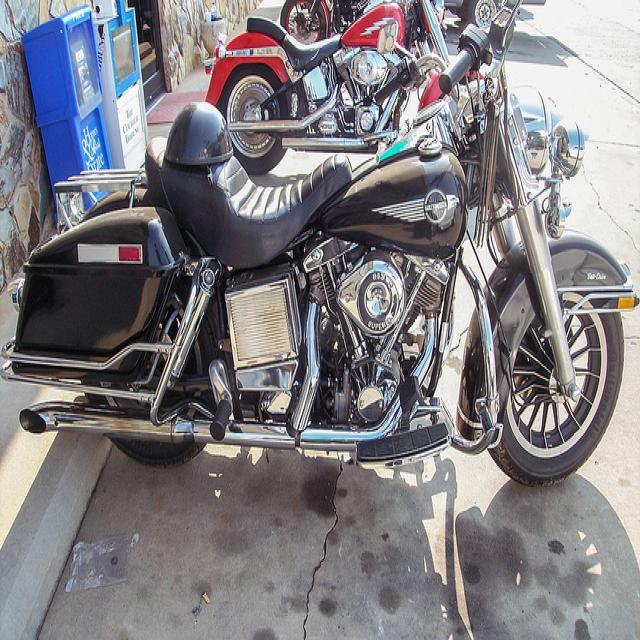motor: (1, 11, 639, 494), (200, 3, 451, 174), (280, 0, 371, 43)
